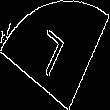L_SW: (35, 24, 75, 86)
